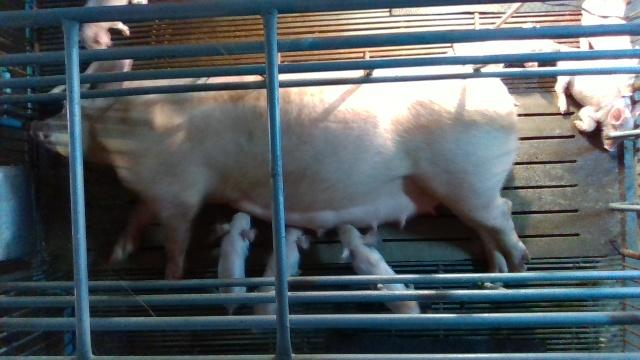piglet: (556, 47, 639, 151), (336, 224, 421, 314), (254, 227, 313, 315), (218, 211, 254, 316), (81, 0, 149, 47)
sow-sleep-lactate: (28, 59, 529, 280)
